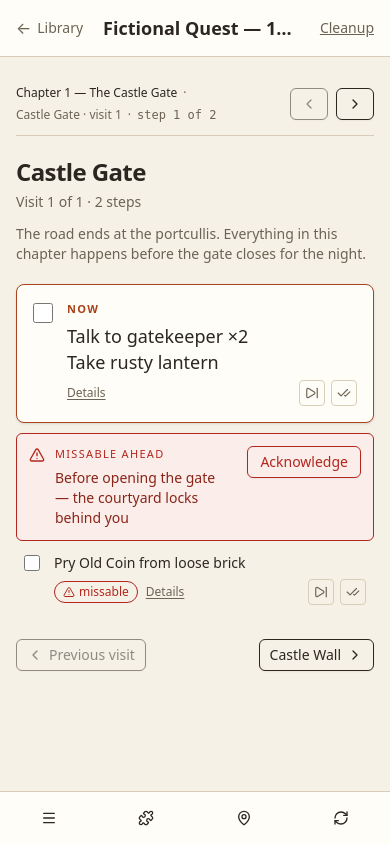
Test: widget view (S3) › 🧩 opens the widget sheet
The image size is (390, 844).
Expected: the text "Talk to gatekeeper ×2" is shown, [67,324,248,348]
Click the button titled "Widgets" at (146,818), box [128,800,164,836]
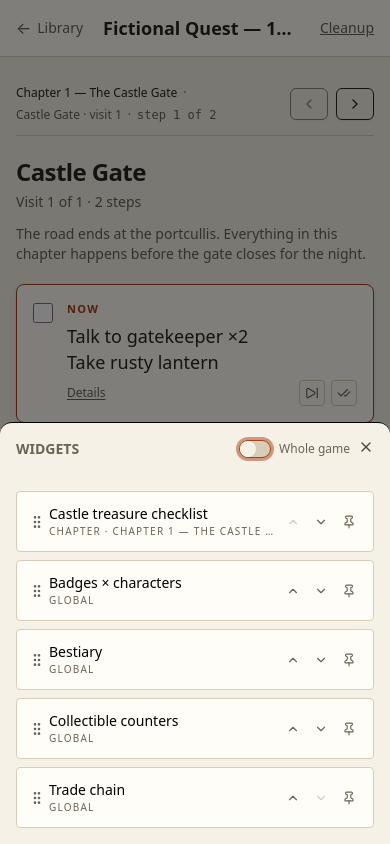
Expected: the button named "Close widgets" is shown, [358,439,374,455]
